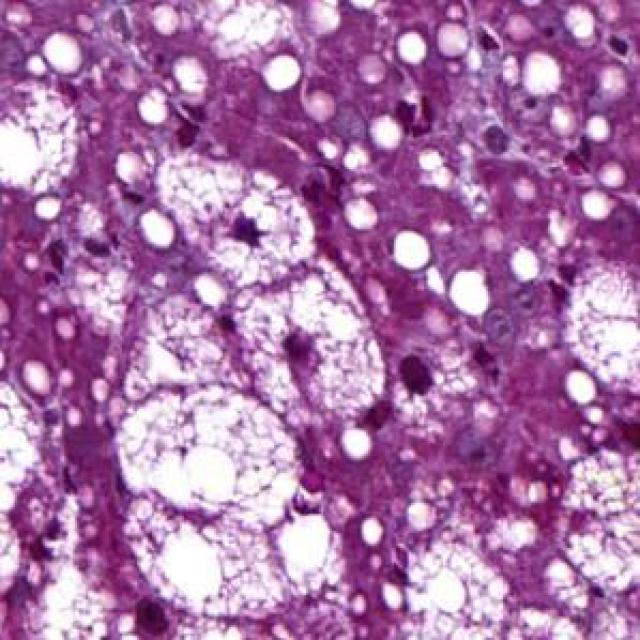ballooning: (112, 381, 308, 537), (227, 257, 387, 426), (148, 150, 323, 295)
